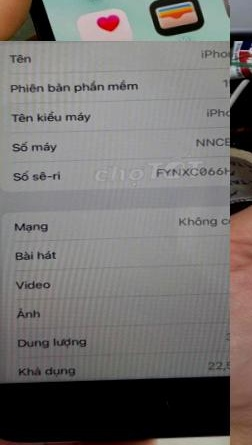scratch: (108, 385, 174, 433)
